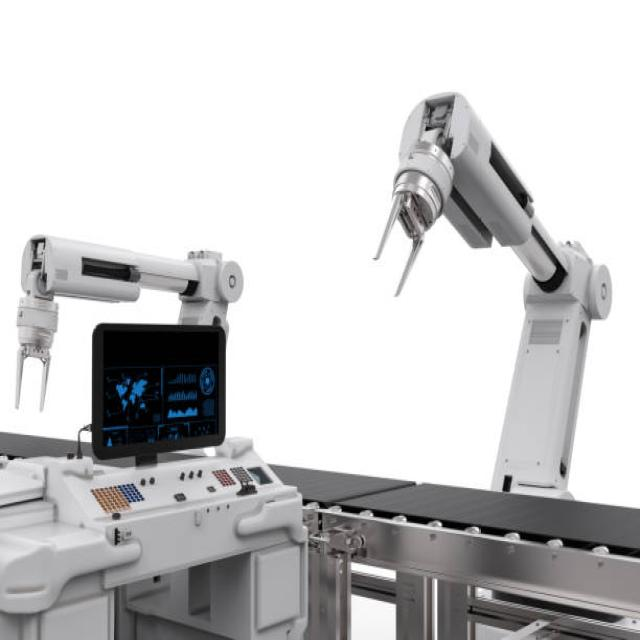Robotic-arm: (368, 80, 614, 497), (11, 223, 252, 438)
